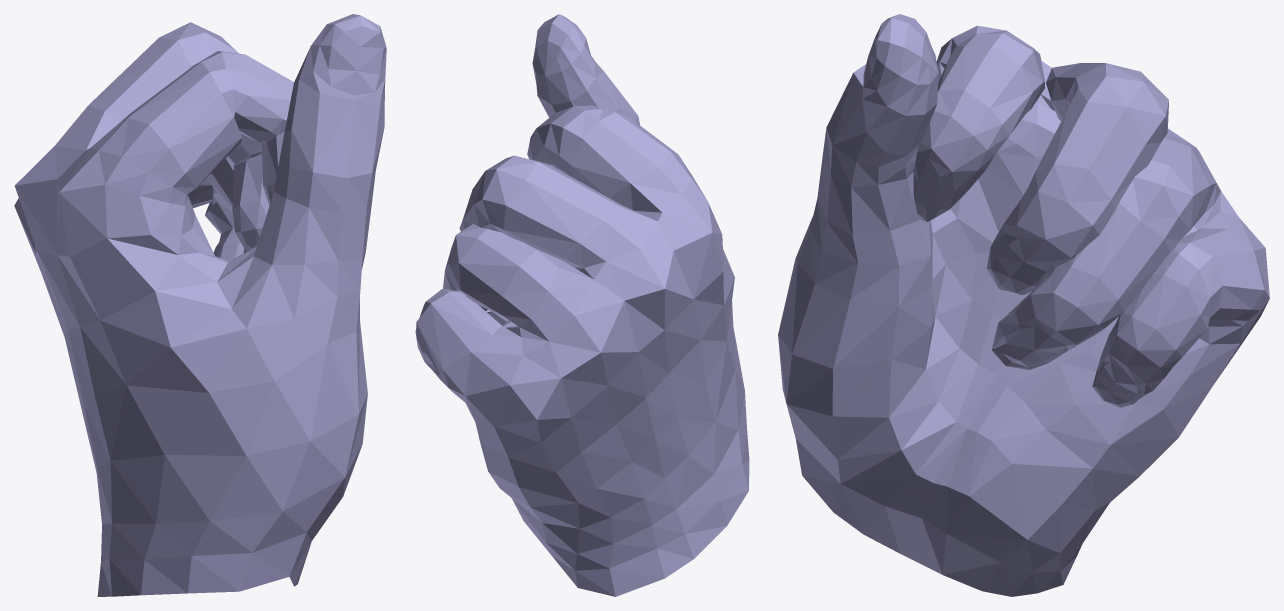
File: frame_0035_source_000035_hand.glb
The picture shows the model from 3 angles, left to right: view 1: azimuth 30°, elevation 25°; view 2: azimuth 150°, elevation 25°; view 3: azimuth 270°, elevation 25°; orthographic projection. The views are drawn at different scales.
Parts seen in each view (by area): view 1: world; view 2: world; view 3: world.
Part boxes in pixels (bbox=[...]): world: bbox=[14, 14, 386, 596]; world: bbox=[415, 14, 749, 596]; world: bbox=[778, 14, 1269, 596].
Size of the model in its own units: 0.0618 by 0.126 by 0.0906.
